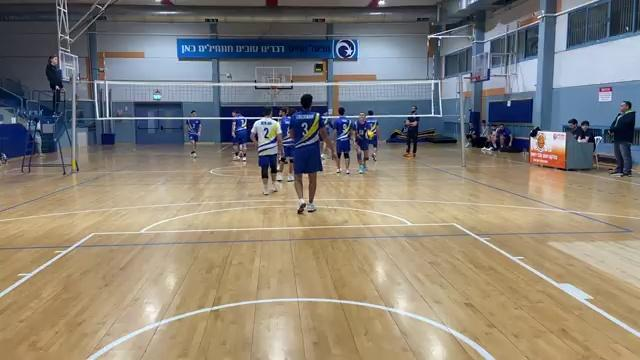ball: (366, 130, 378, 141)
